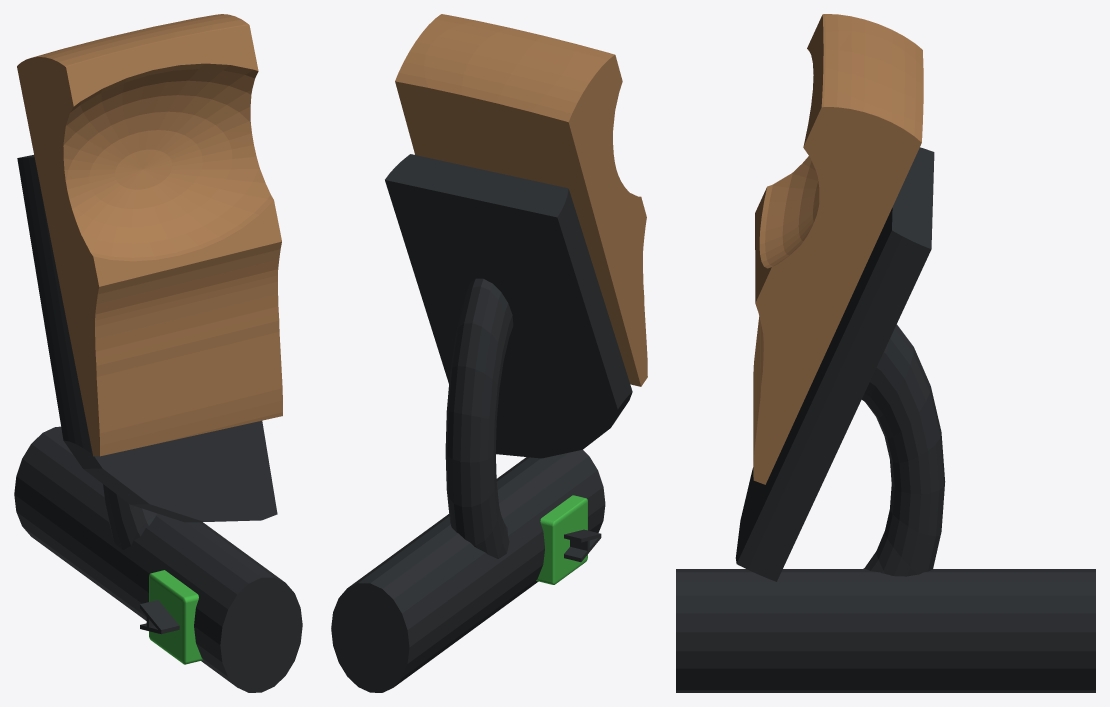
Rendered from tinker.obj.
3 views of the same model, side by side, from view 1: azimuth 30°, elevation 25°; view 2: azimuth 150°, elevation 25°; view 3: azimuth 270°, elevation 25° (orthographic). The views are drawn at different scales.
Visible parts, largest first — view 1: group_0_11107152, group_0_2829873, group_0_4634441; view 2: group_0_2829873, group_0_11107152, group_0_4634441; view 3: group_0_2829873, group_0_11107152.
Part boxes in pixels (x1,y1,x2,y2): group_0_11107152: (17,14,282,456); group_0_2829873: (14,155,302,692); group_0_4634441: (149,570,203,664); group_0_2829873: (331,154,632,692); group_0_11107152: (395,14,647,386); group_0_4634441: (536,495,587,584); group_0_2829873: (676,147,1095,692); group_0_11107152: (753,14,923,484).
Size of the model in its own units: 20.93 by 63.16 by 39.
